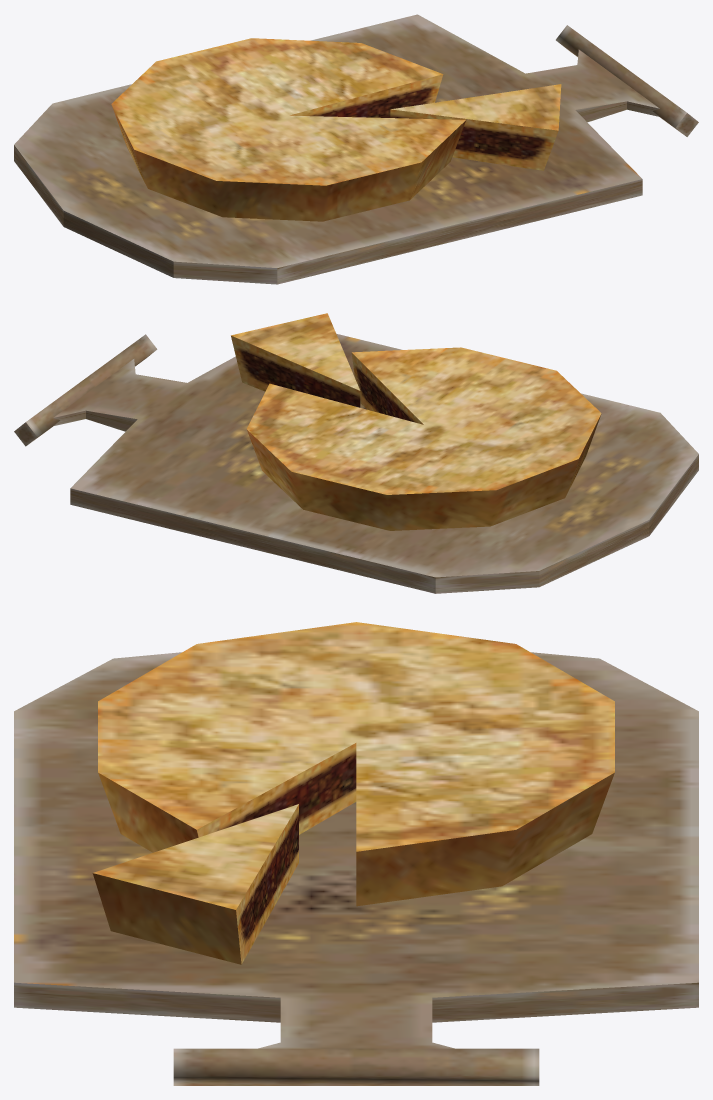
Rendered from edb_dessert_pikatta_pie_l1.fbx.
The picture shows the model from 3 angles, top to bottom: view 1: azimuth 30°, elevation 25°; view 2: azimuth 150°, elevation 25°; view 3: azimuth 270°, elevation 25°; orthographic projection. The views are drawn at different scales.
Parts seen in each view (by area): view 1: mesh_node; view 2: mesh_node; view 3: mesh_node.
Part boxes in pixels (x1,y1,x2,y2): mesh_node: (14,14,698,284); mesh_node: (14,313,698,593); mesh_node: (14,622,698,1085).
Bounding box in the file's own units: 0.7046 × 0.075 × 0.4772.
